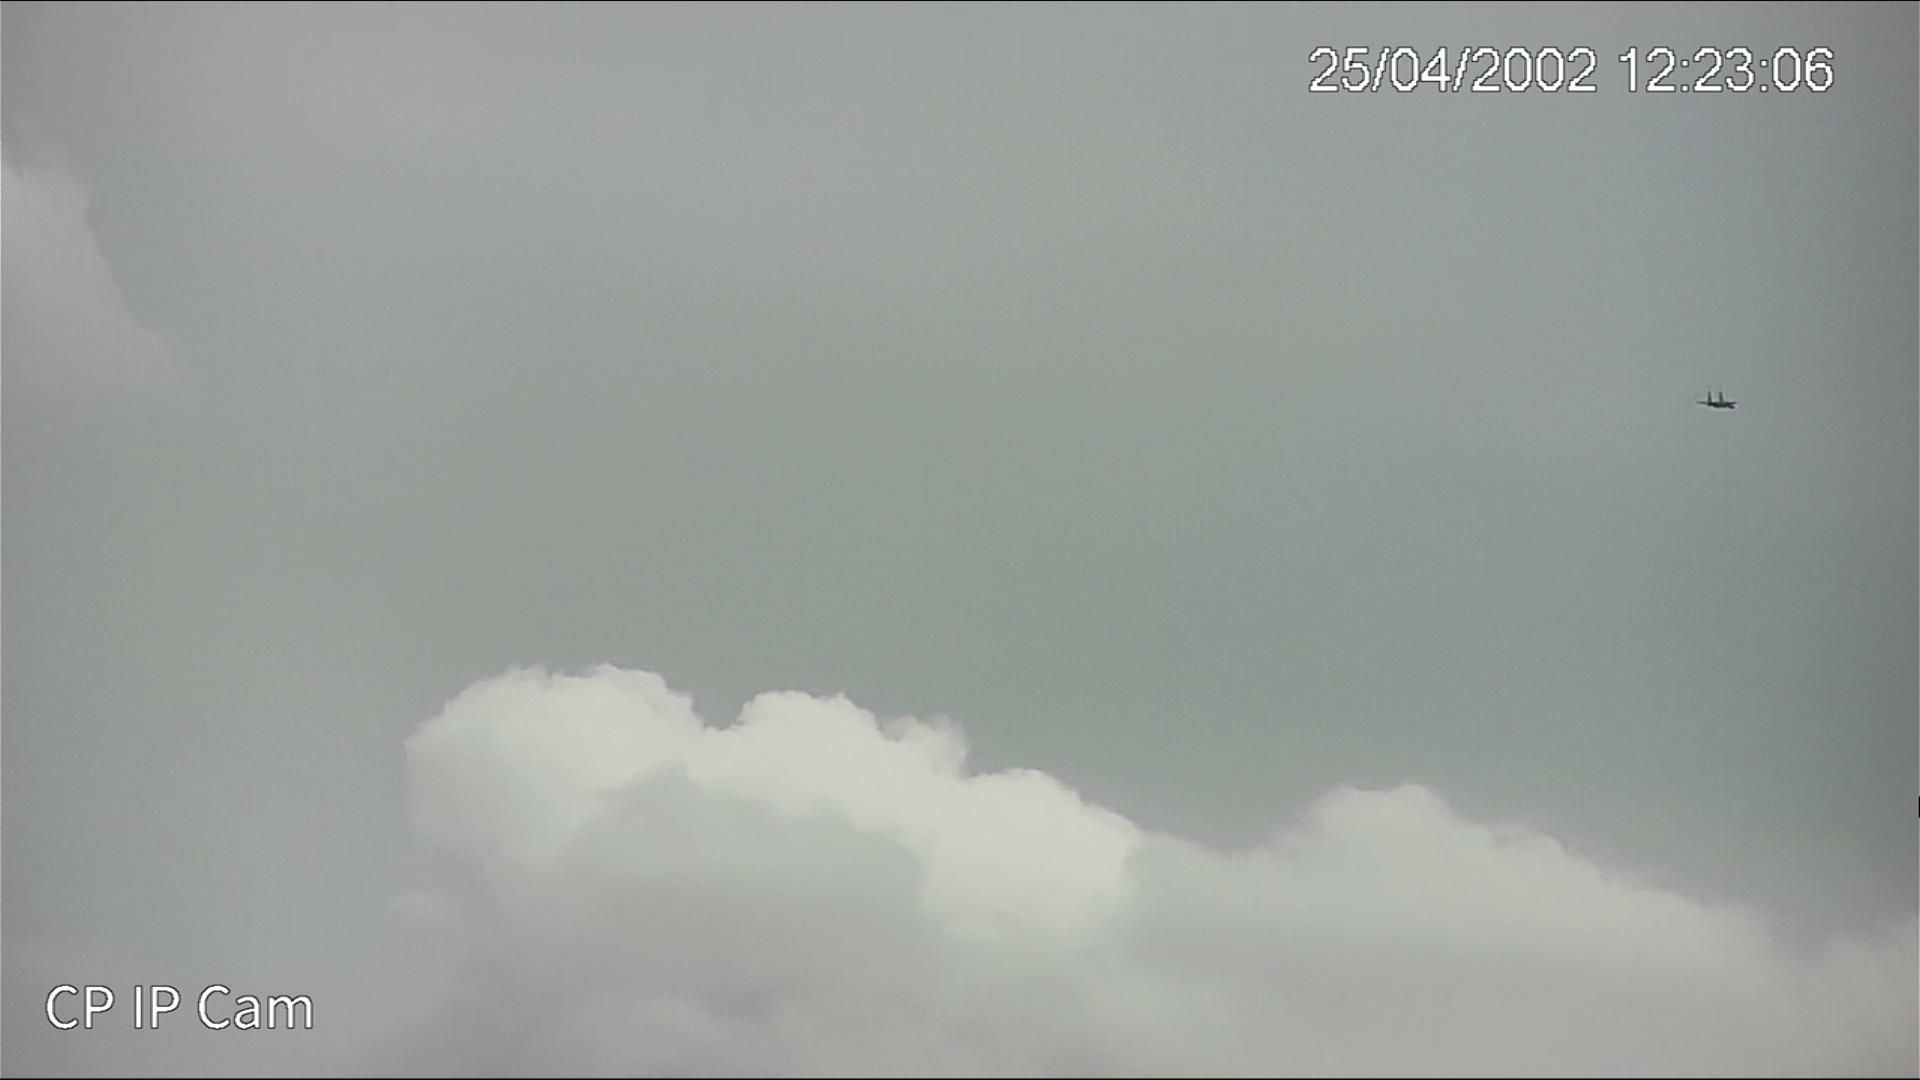SU_30: (1693, 390, 1741, 409)
